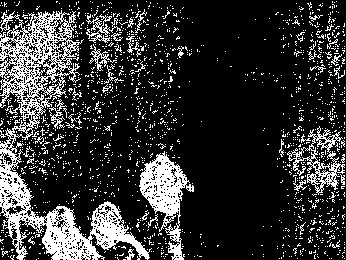person: (131, 150, 189, 260)
